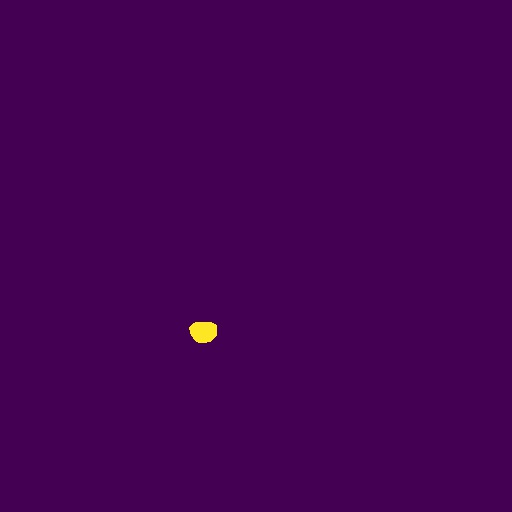Pituirity_tumour: (189, 322, 217, 343)
